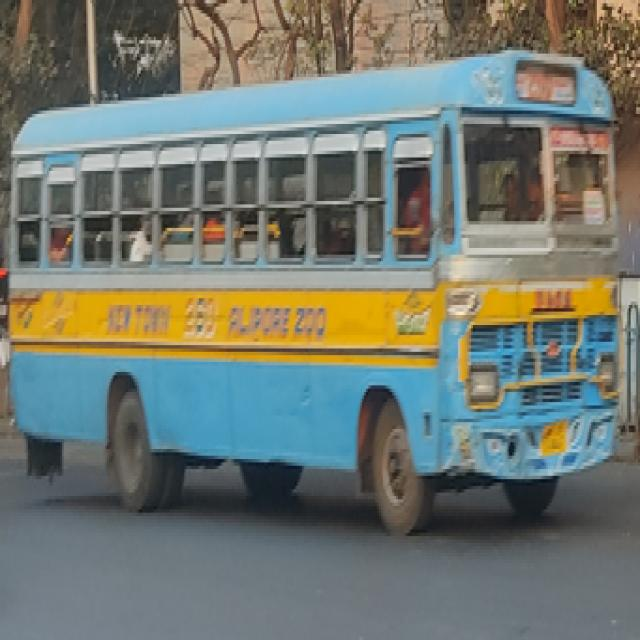bus: (11, 43, 625, 550)
